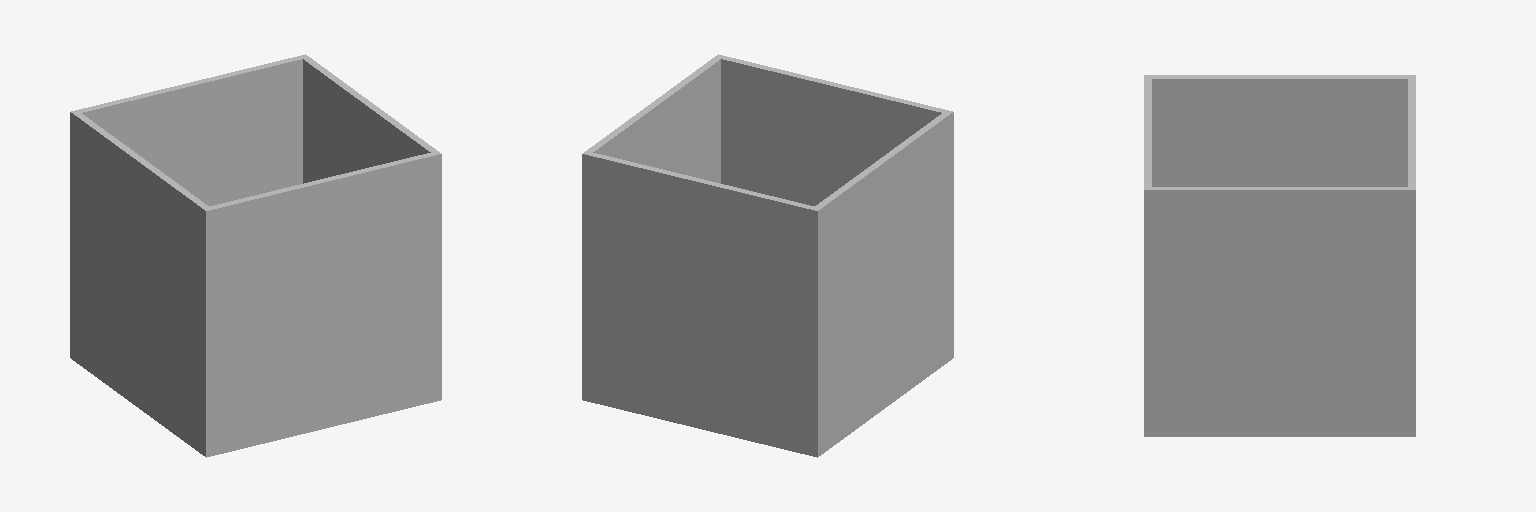
Rendered from solid_conainer.obj.
3 views of the same model, side by side, from view 1: azimuth 30°, elevation 25°; view 2: azimuth 150°, elevation 25°; view 3: azimuth 270°, elevation 25° (orthographic).
Parts seen in each view (by area): view 1: Cube; view 2: Cube; view 3: Cube.
Part boxes in pixels (bbox=[...]): Cube: bbox=[70, 54, 441, 457]; Cube: bbox=[582, 54, 953, 457]; Cube: bbox=[1144, 75, 1415, 436].
Size of the model in its own units: 2 by 2 by 2.